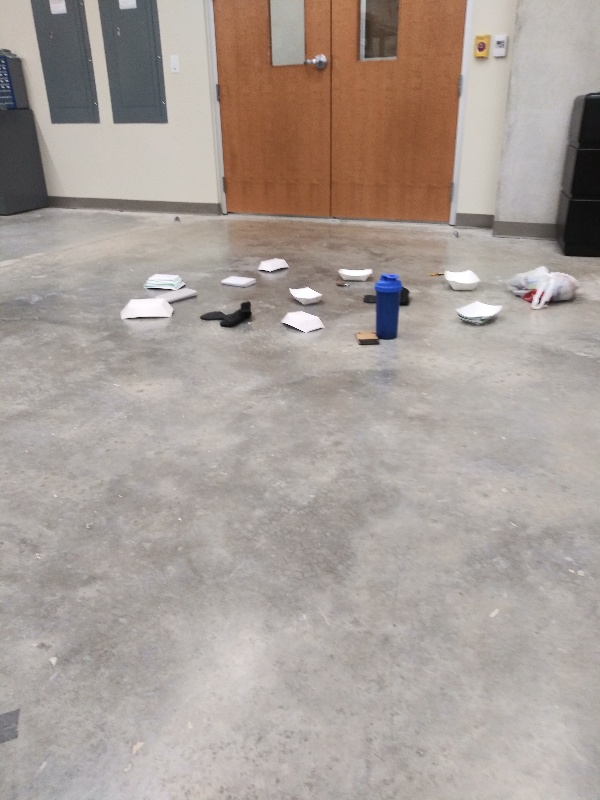plate: (119, 296, 176, 325), (455, 297, 509, 326), (278, 310, 328, 336), (440, 264, 483, 292), (140, 268, 187, 293), (334, 263, 380, 285), (284, 284, 324, 305), (254, 254, 292, 275)
